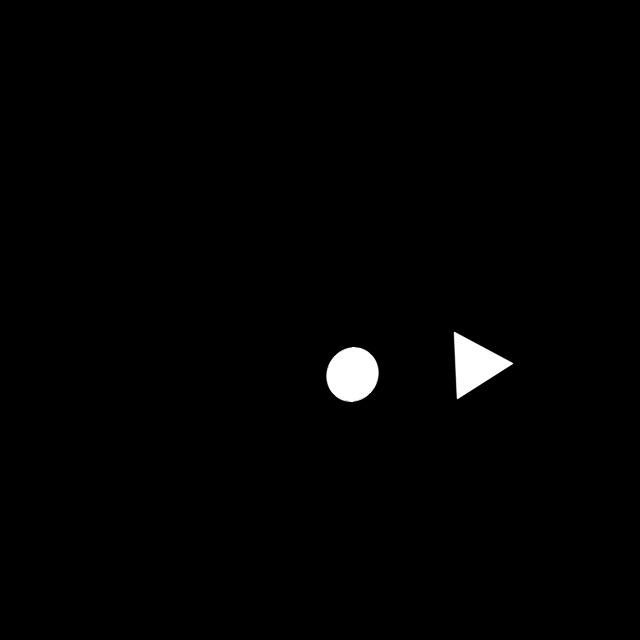Circle: (319, 339, 385, 412)
Triangle: (438, 319, 520, 412)
